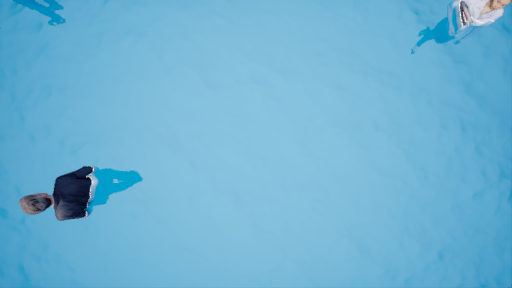person: (13, 165, 149, 226)
